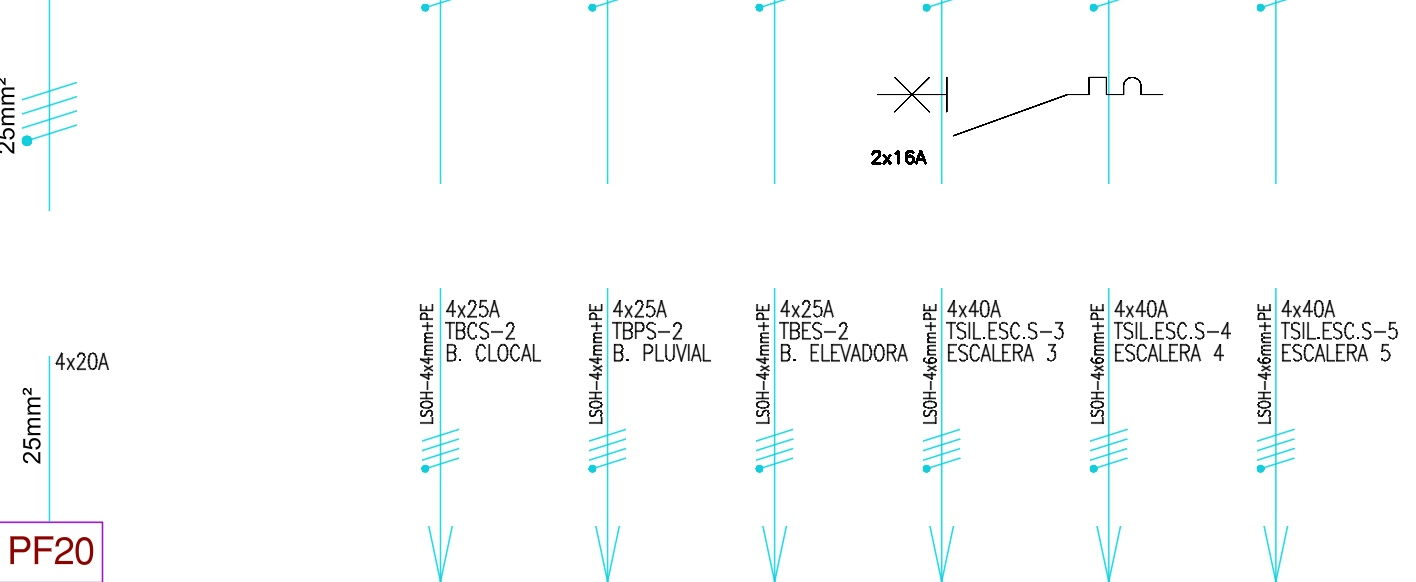interruptor_termomagnetico: (870, 70, 1170, 143)
